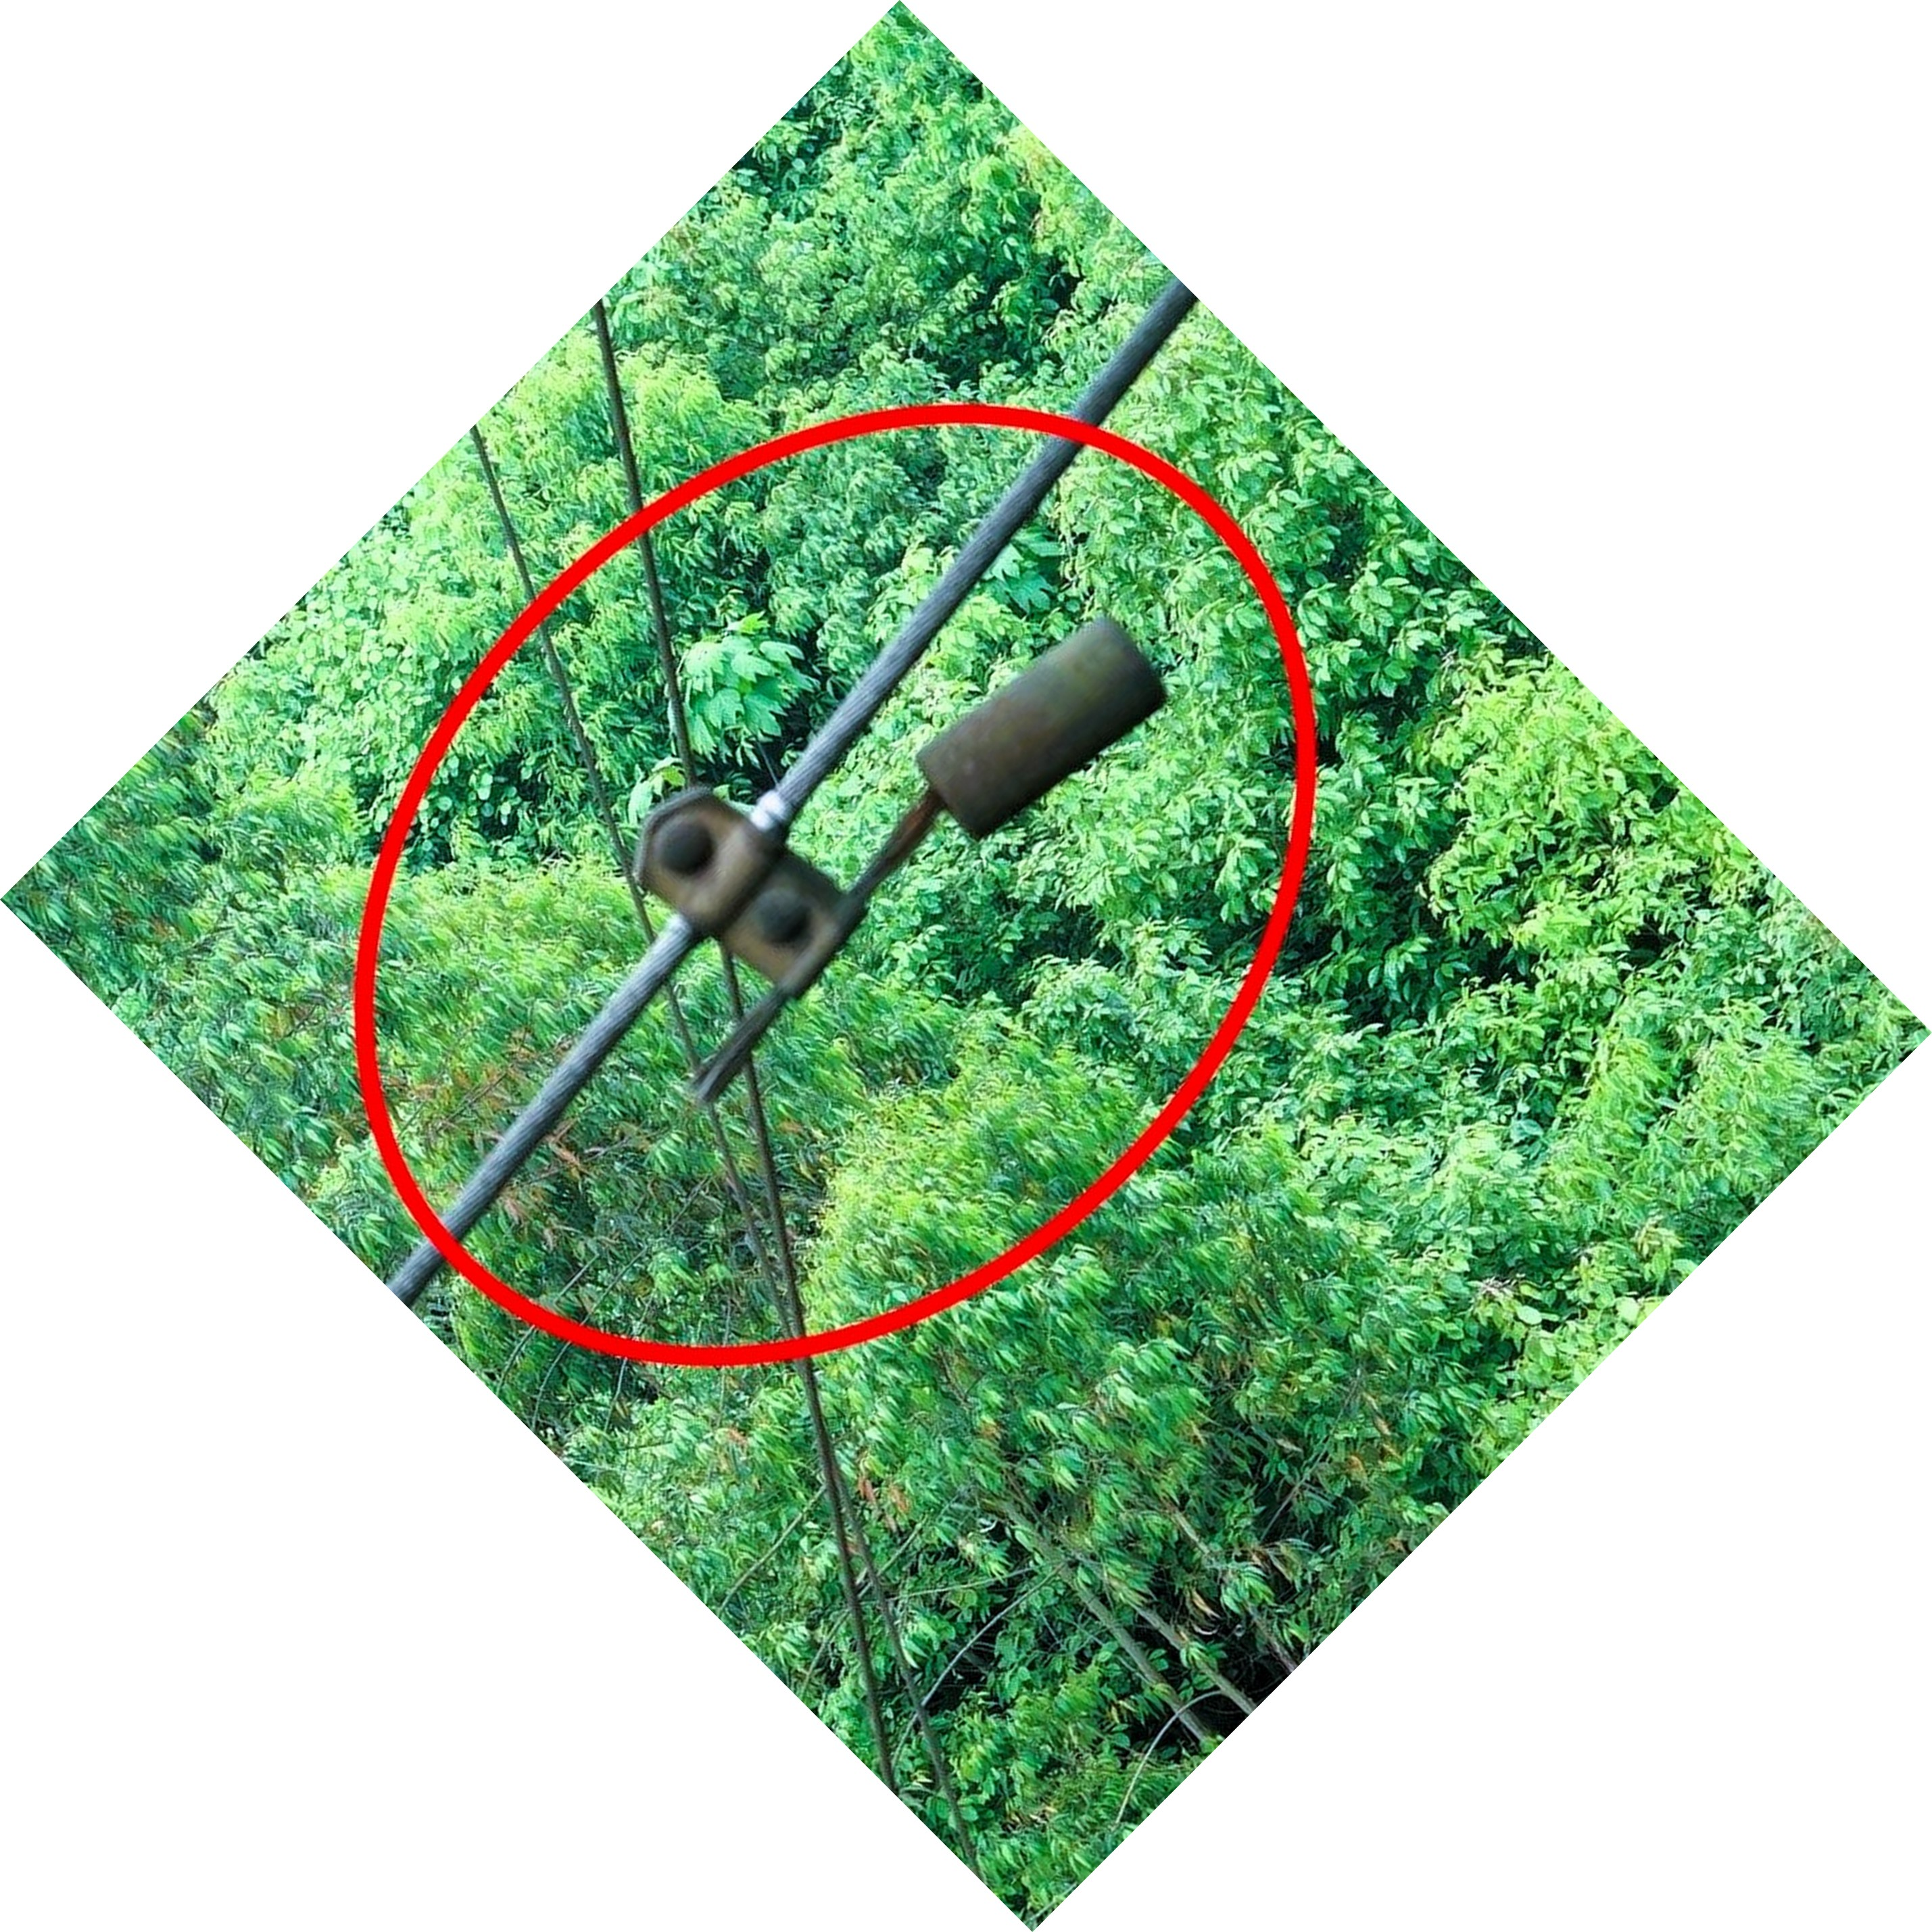Damage of shockproof hammer: (602, 586, 1175, 1136)
